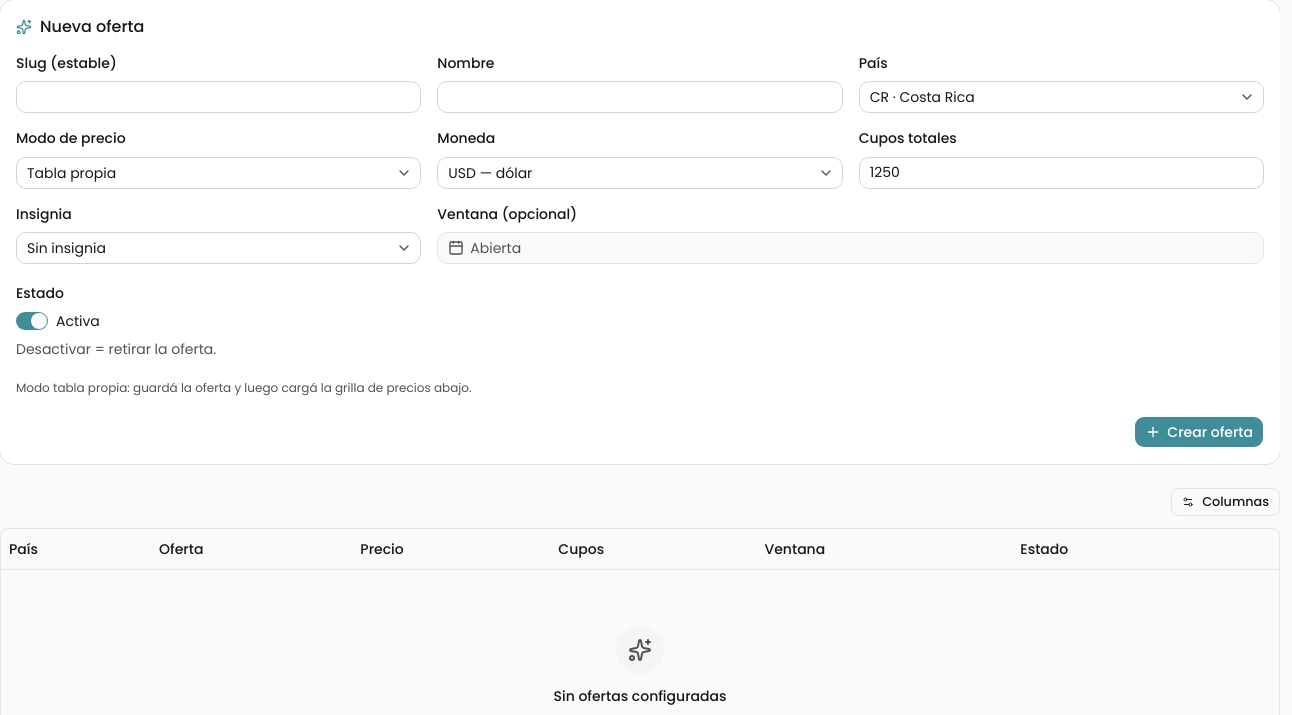
PromoOffersManager — oferta Default (sin país) › con Default la moneda queda fija en USD (no editable)
The image size is (1292, 715).
Click the dropdown named "Moneda": click(490, 172) left=437, top=156, right=843, bottom=188
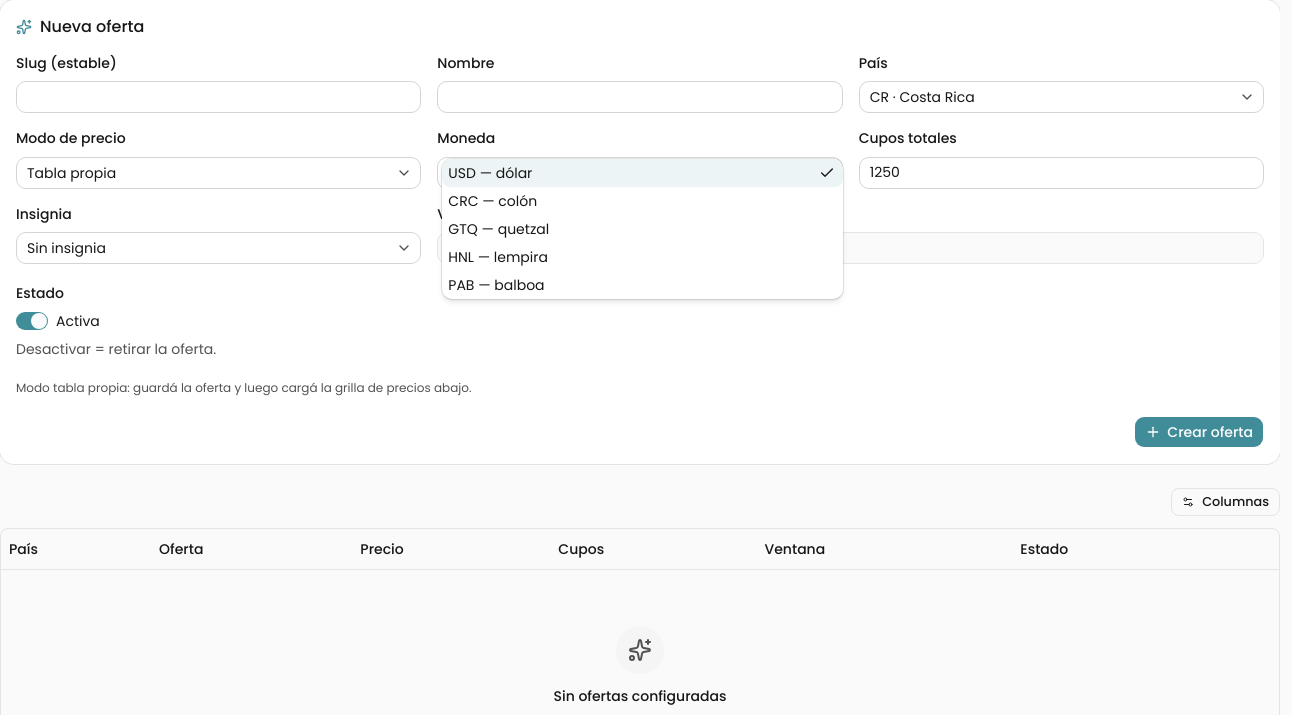
Click the option "CRC — colón": click(493, 200) left=448, top=190, right=537, bottom=210
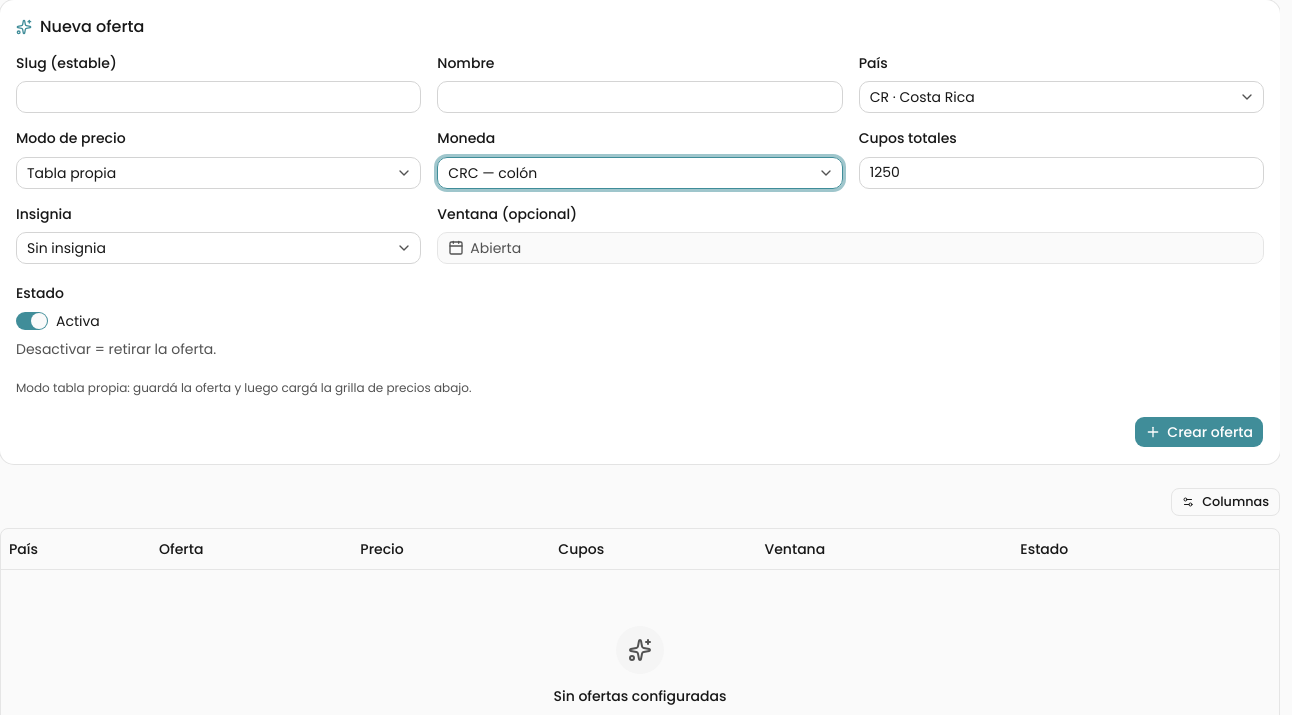
Click the dropdown named "País": click(937, 97) left=859, top=81, right=1264, bottom=113
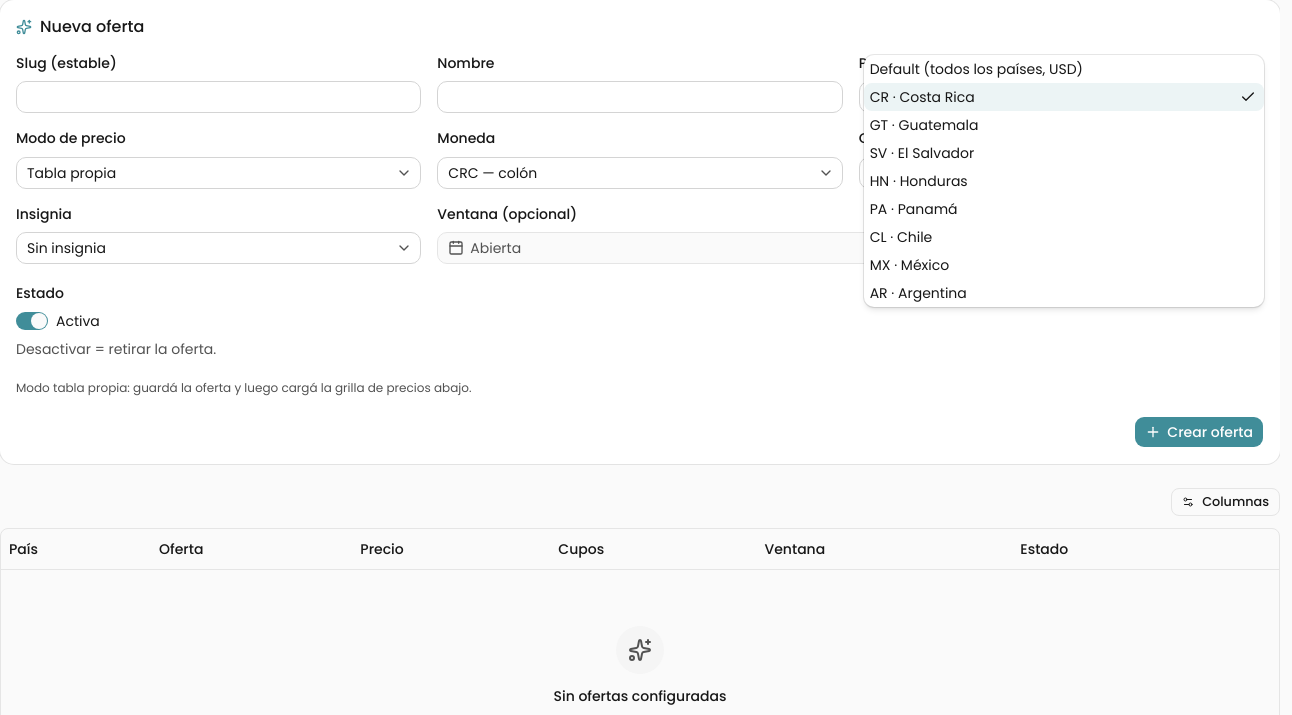
Click the option "Default (todos los países, USD)": click(976, 69) left=870, top=59, right=1083, bottom=79
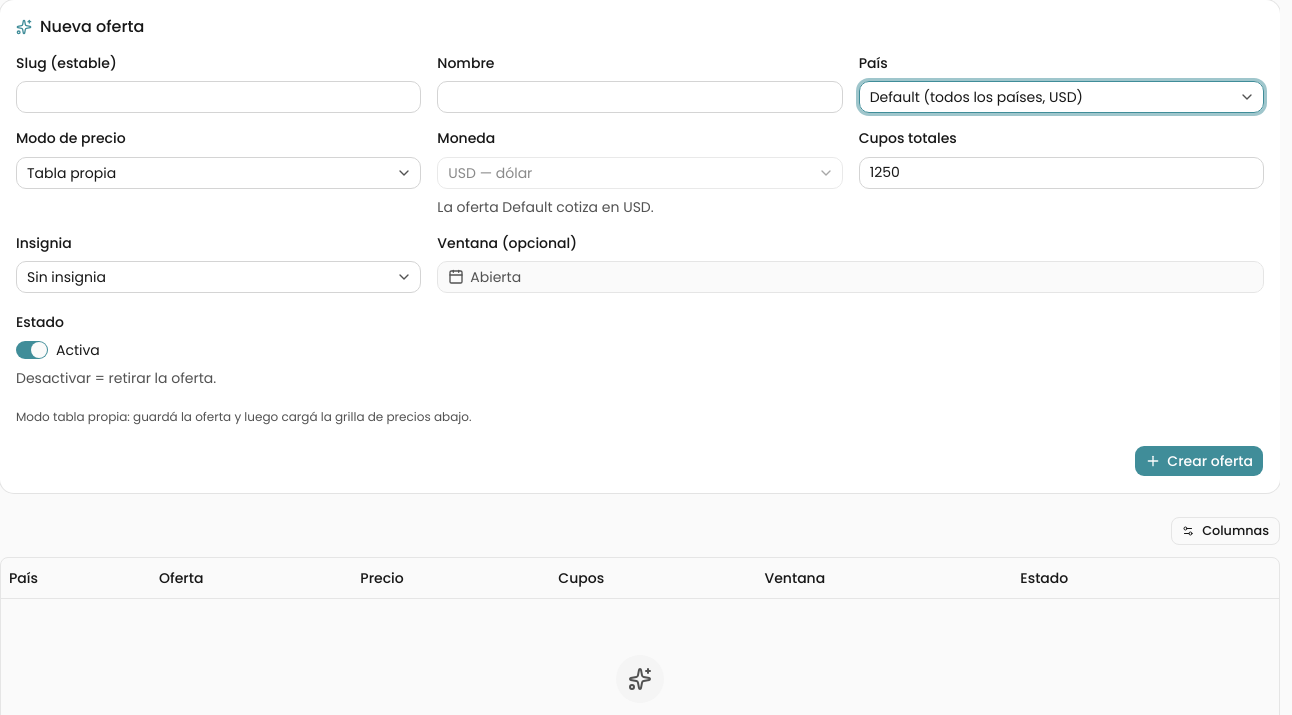
Now the dropdown named "Moneda" shows "USD", box left=437, top=156, right=843, bottom=188
Now the dropdown named "Moneda" is disabled, box left=437, top=156, right=843, bottom=188
